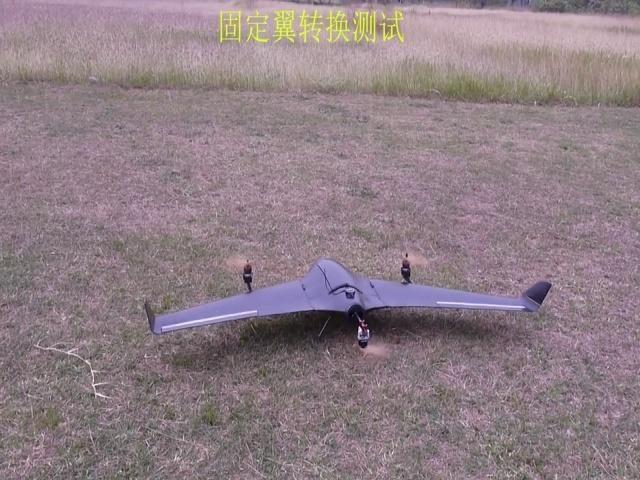Airplane: (143, 248, 553, 355)
